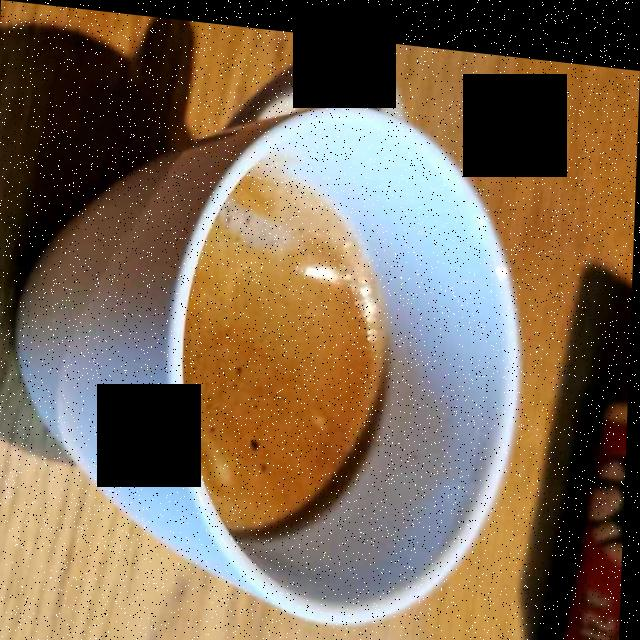espresso-with-caffeine: (186, 161, 385, 523)
